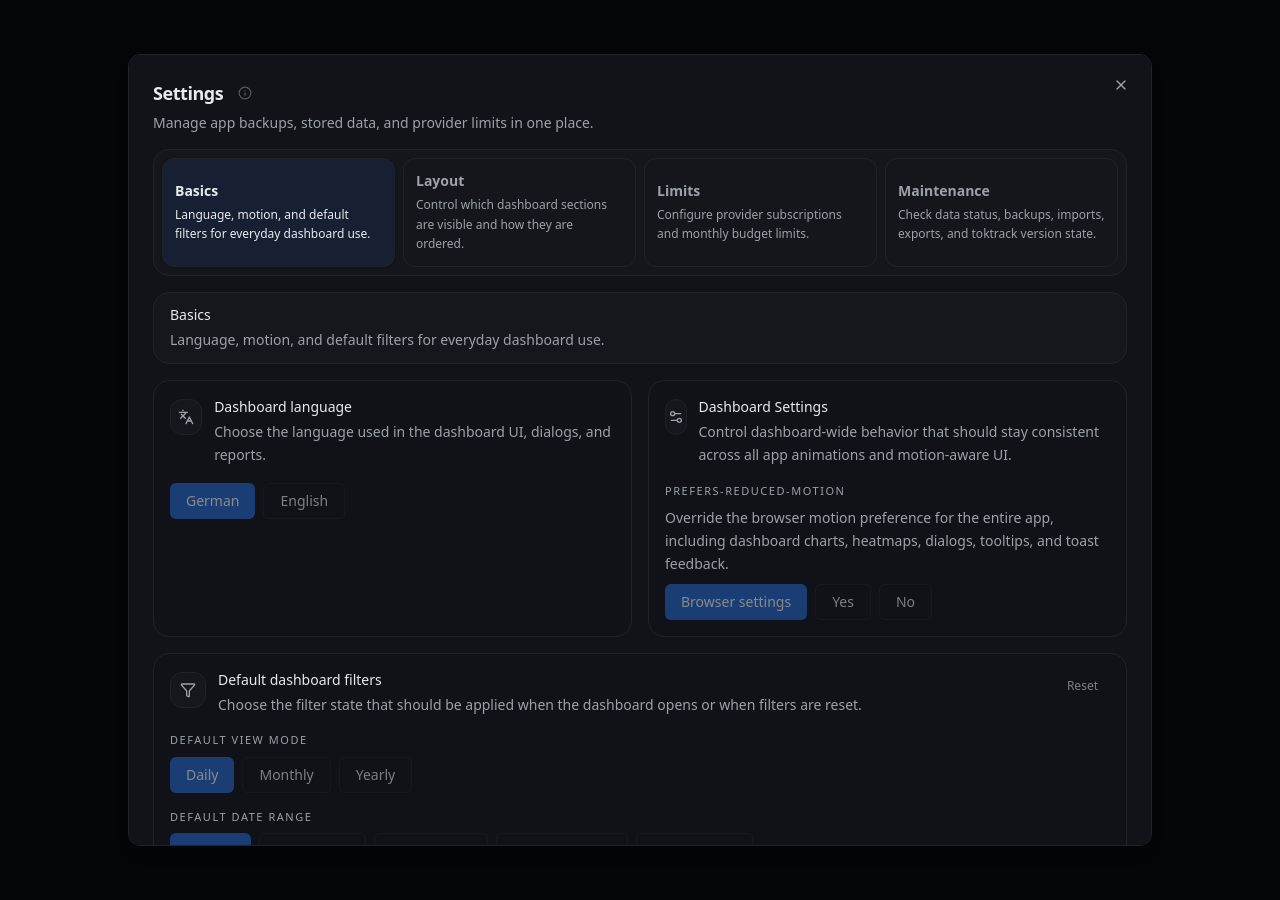
Test: SettingsModal sections controls › disables section reordering and visibility mutations while settings are busy
Step 1. Click the tab "Layout" → [520, 212], box [403, 158, 636, 266]
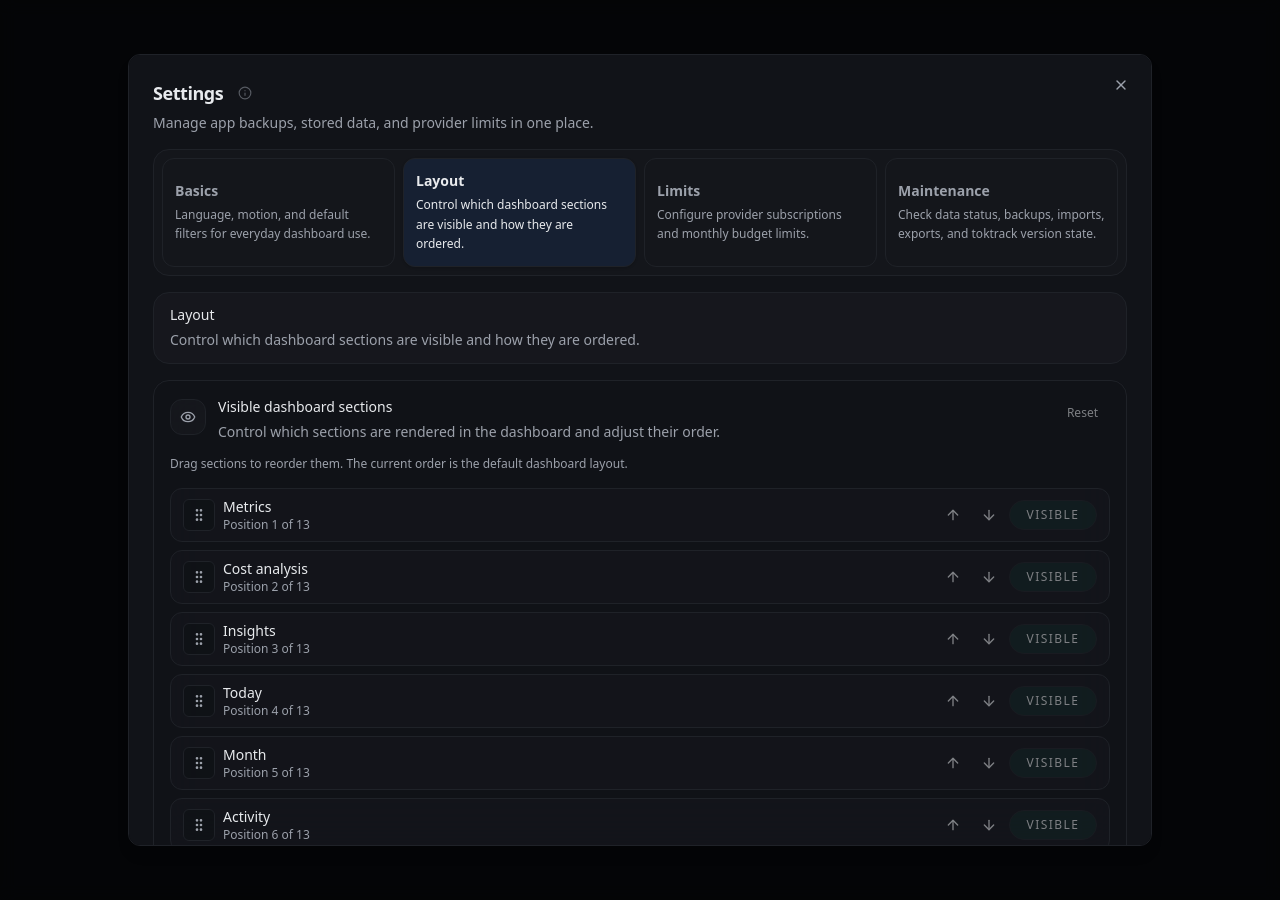
Expected: the button with test id "move-section-up-metrics" is disabled, [937, 499, 969, 531]
Expected: the button with test id "move-section-down-metrics" is disabled, [973, 499, 1005, 531]
Expected: the button with test id "toggle-section-visibility-metrics" is disabled, [1009, 500, 1097, 530]
